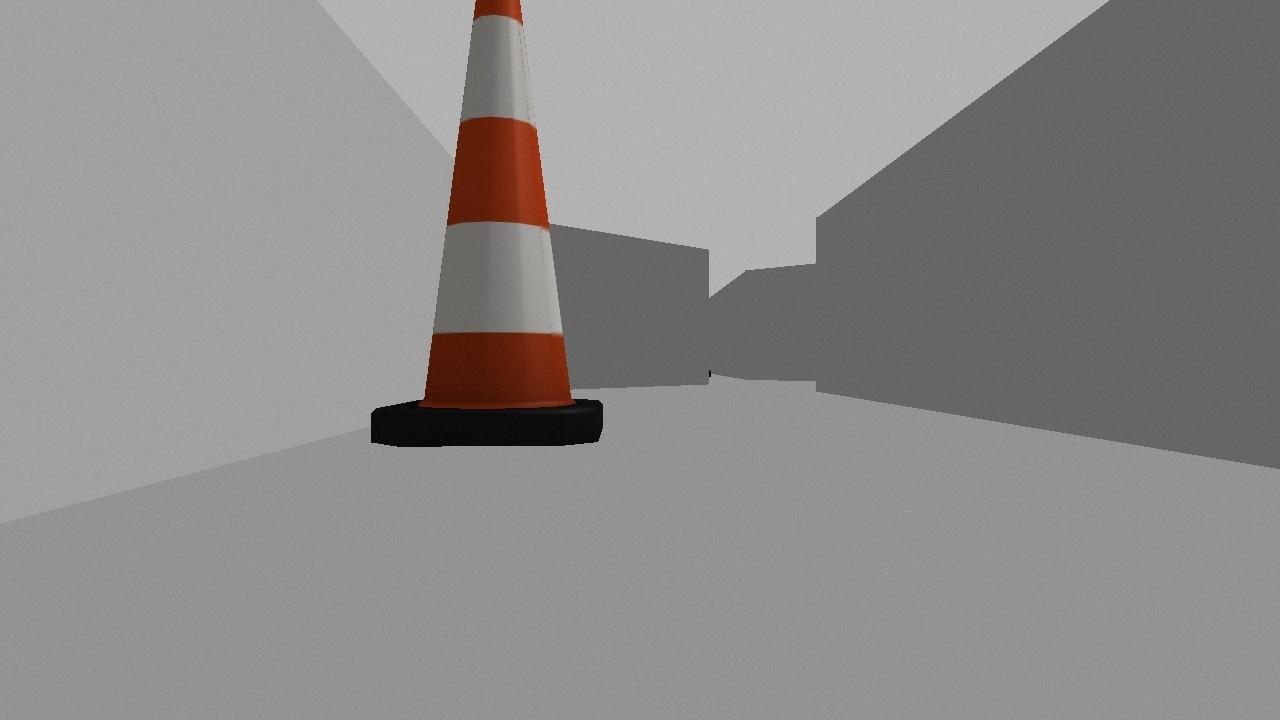cone_barrel: (345, 0, 621, 461)
